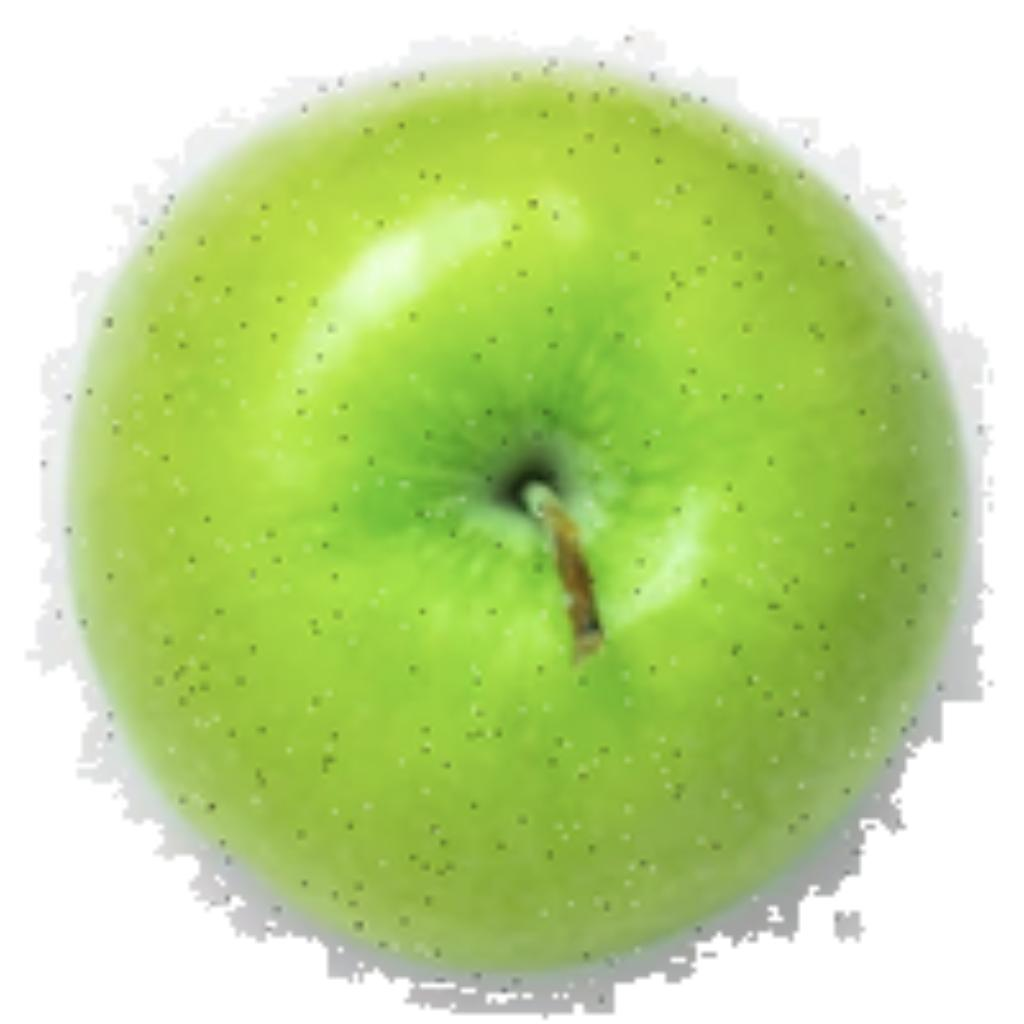apple: (20, 20, 993, 1019)
